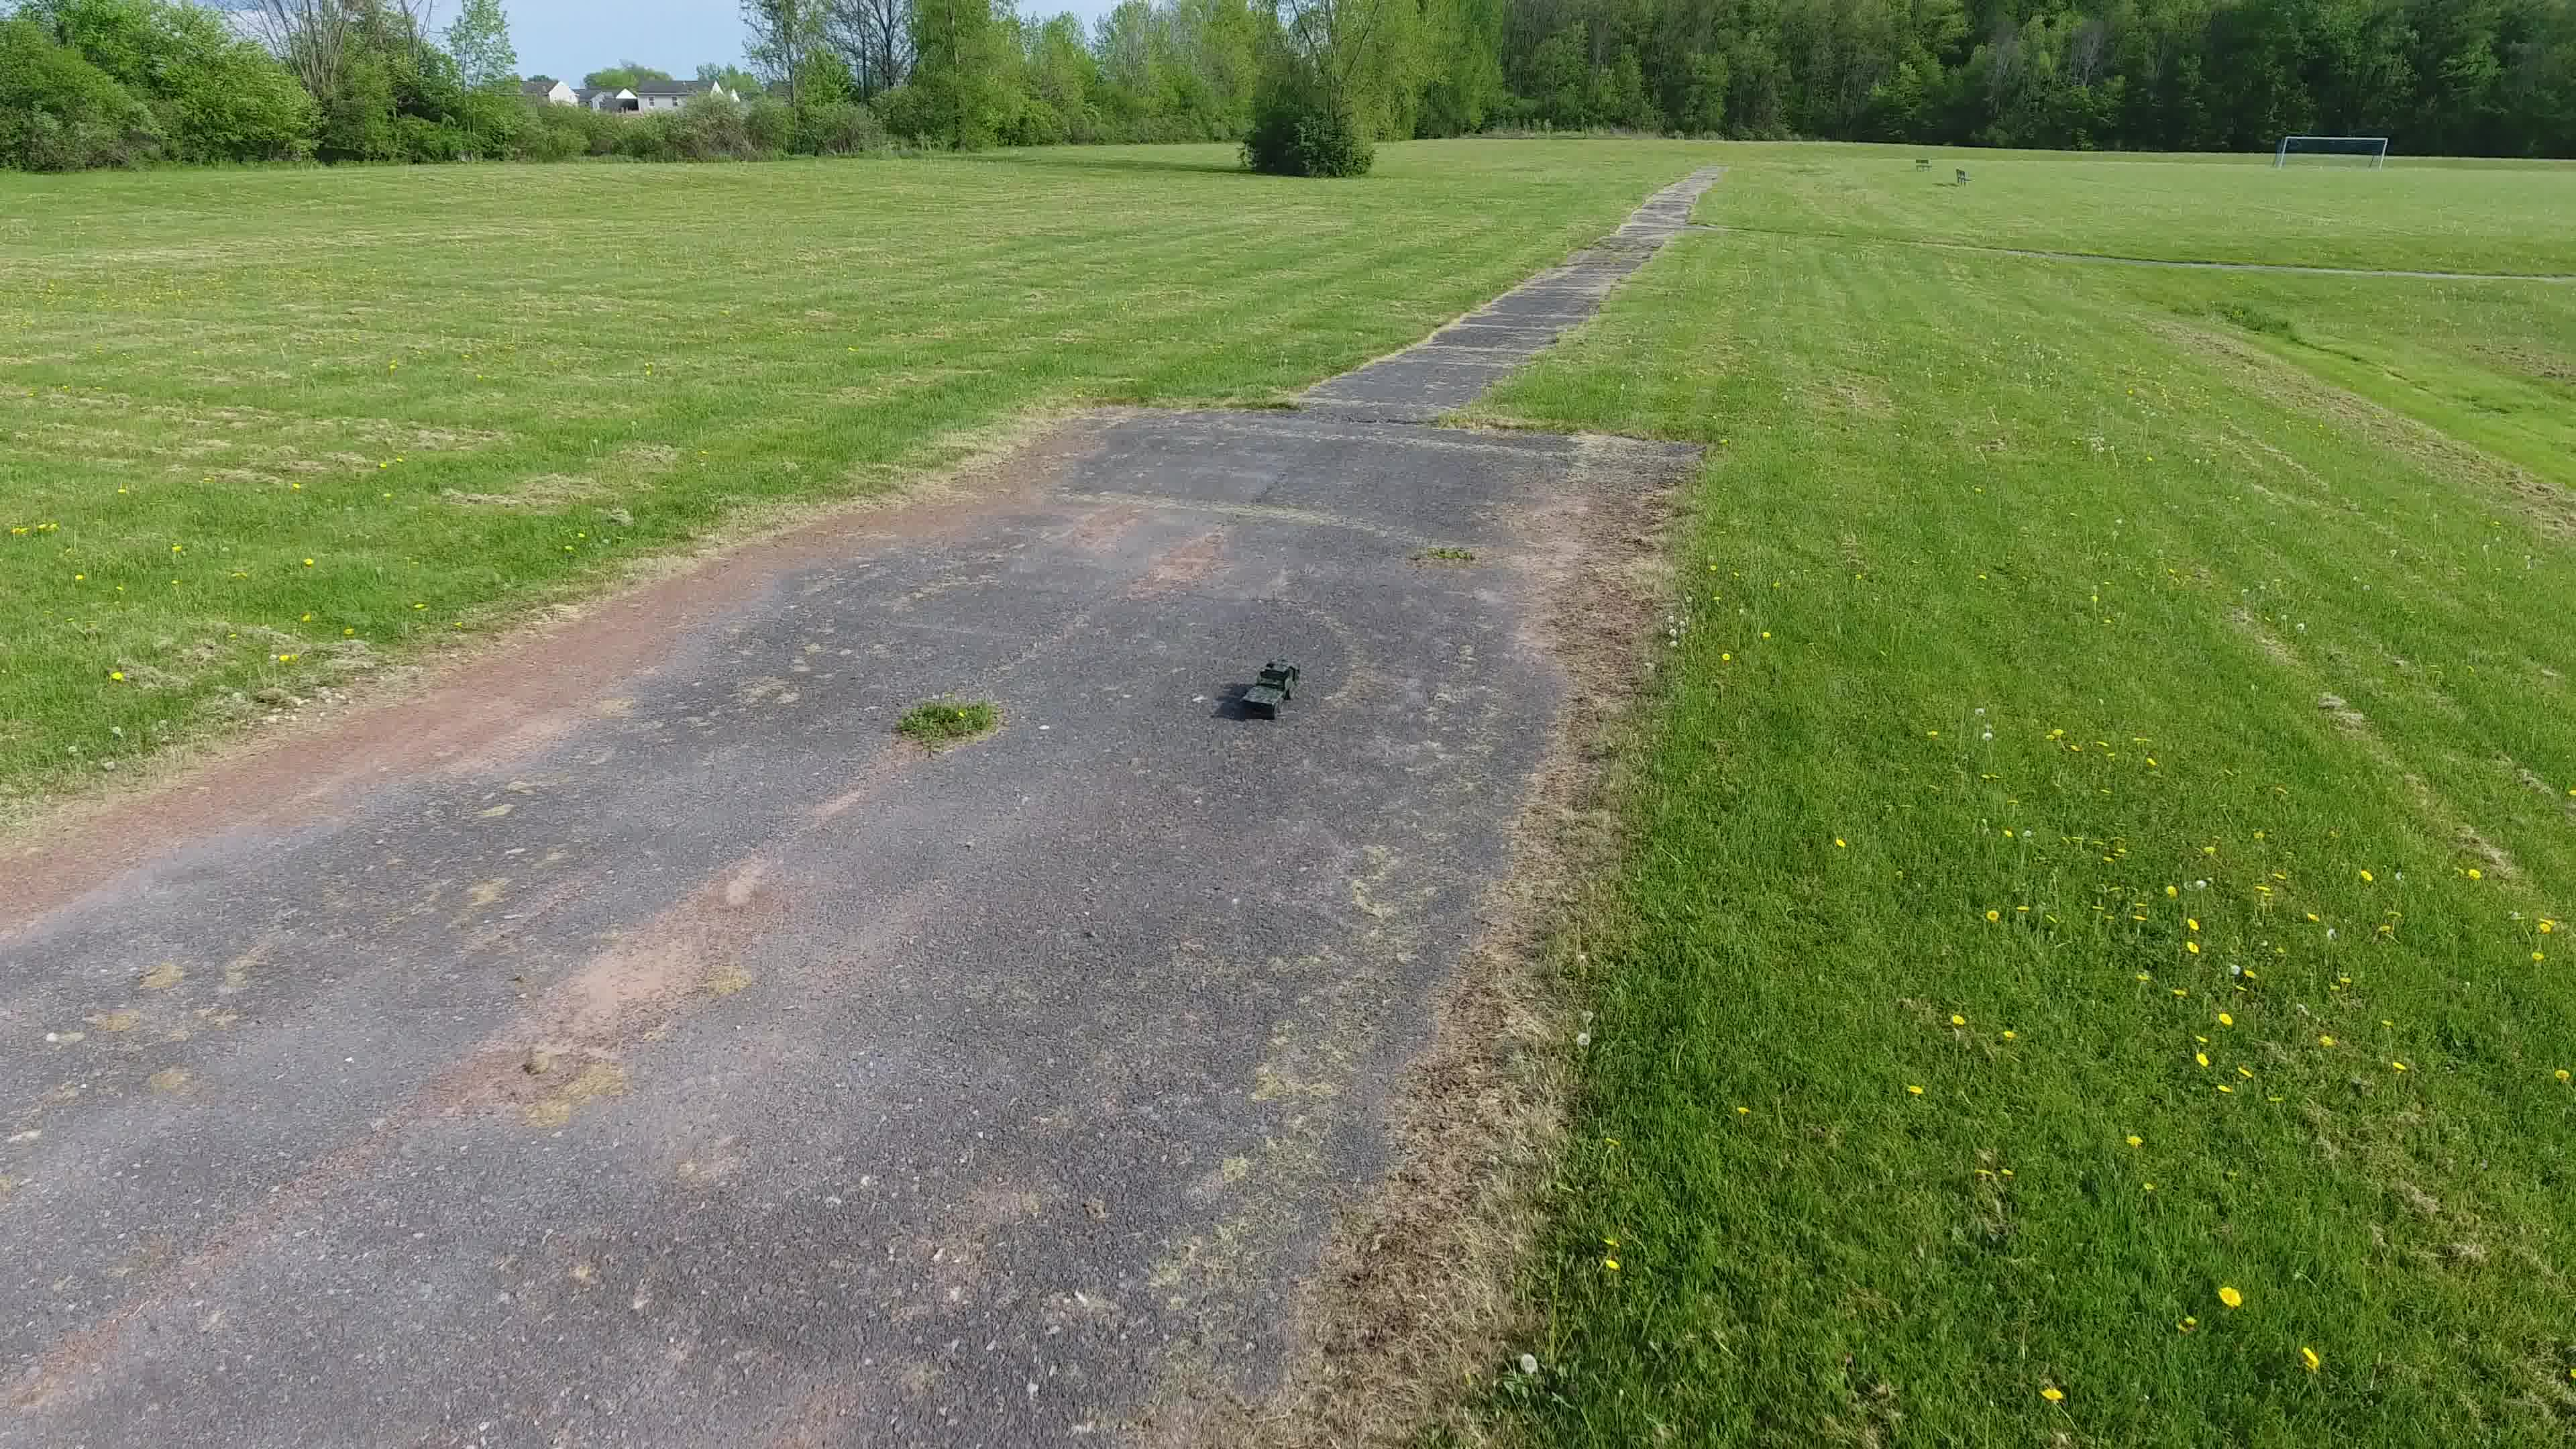transporter9_camo: (1233, 656, 1304, 722)
